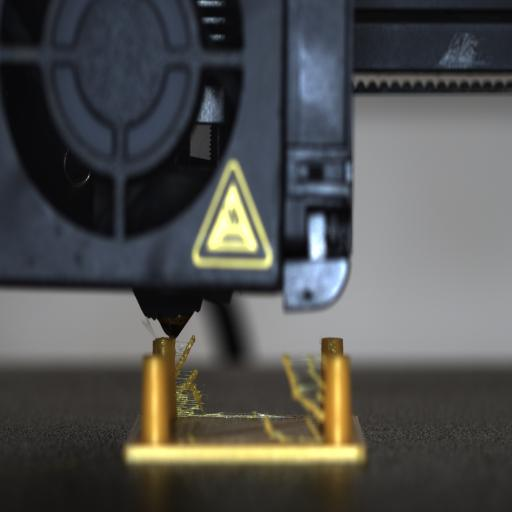stringing: (183, 342, 324, 440)
